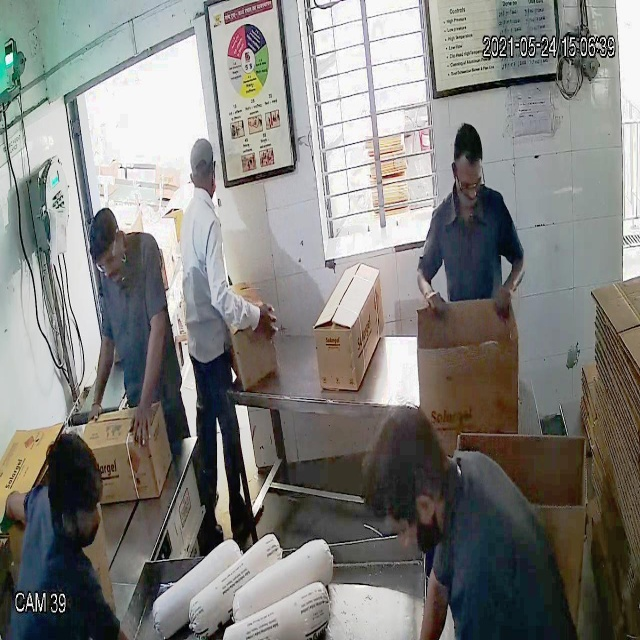Gafas: (450, 163, 488, 198), (90, 238, 123, 275)
